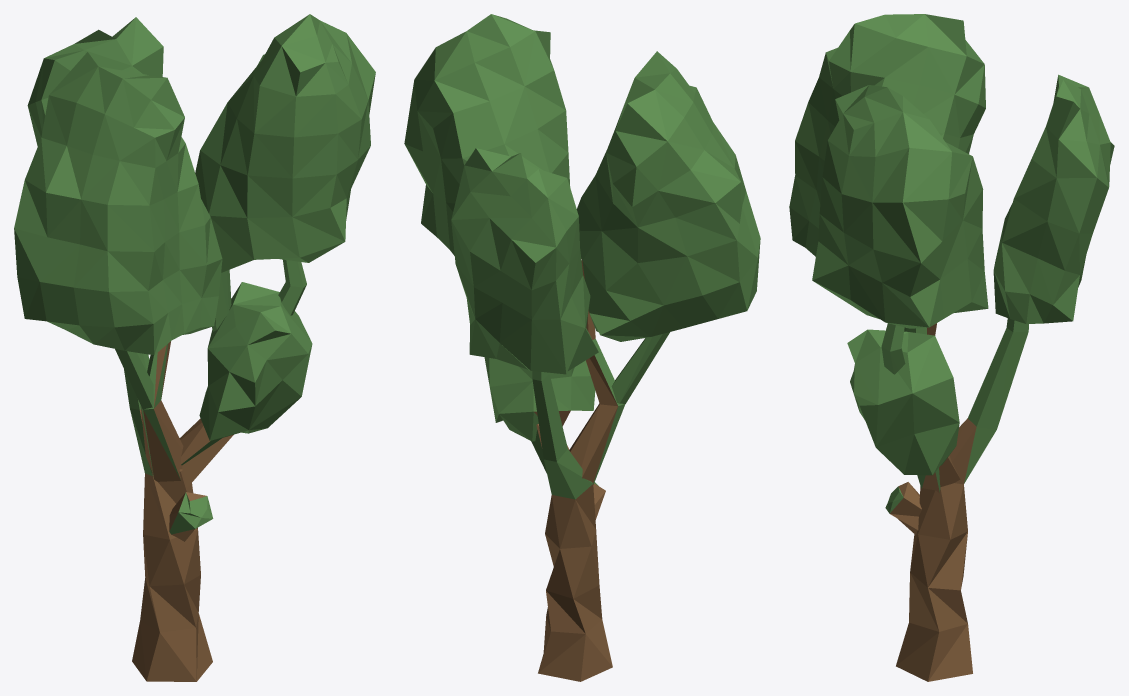
File: tree3d-127.glb
3 renders of one model, left to right at view 1: azimuth 30°, elevation 25°; view 2: azimuth 150°, elevation 25°; view 3: azimuth 270°, elevation 25°, orthographic. The views are drawn at different scales.
Visible parts, largest first — view 1: tree3d-127; view 2: tree3d-127; view 3: tree3d-127.
Part boxes in pixels (left/top/right/bottom): tree3d-127: left=14, top=14, right=375, bottom=681; tree3d-127: left=404, top=14, right=760, bottom=681; tree3d-127: left=789, top=14, right=1114, bottom=681.
Size of the model in its own units: 0.5736 by 1 by 0.4671.
